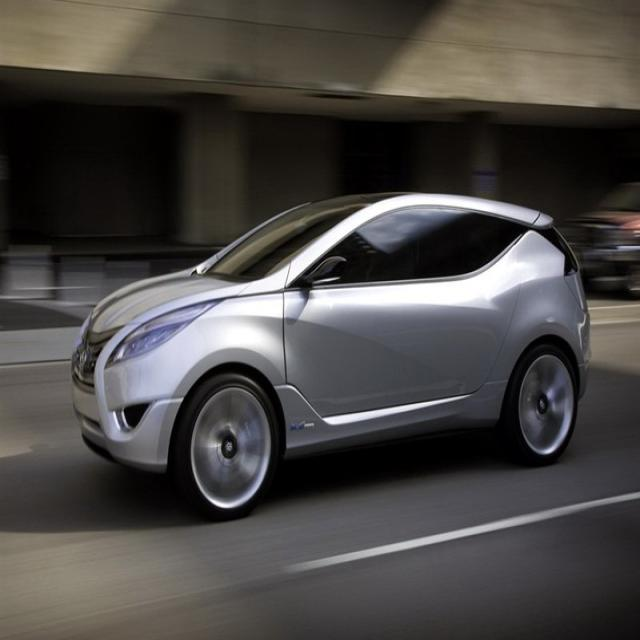front_bumper: (70, 352, 174, 470)
front_glass: (196, 197, 368, 286)
front_left_side_door: (281, 199, 525, 423)
front_left_side_light: (108, 296, 220, 370)
front_left_side_mirror: (290, 256, 346, 289)
rear_bumper: (574, 307, 602, 388)
wheel: (179, 370, 276, 516), (512, 349, 576, 458)
